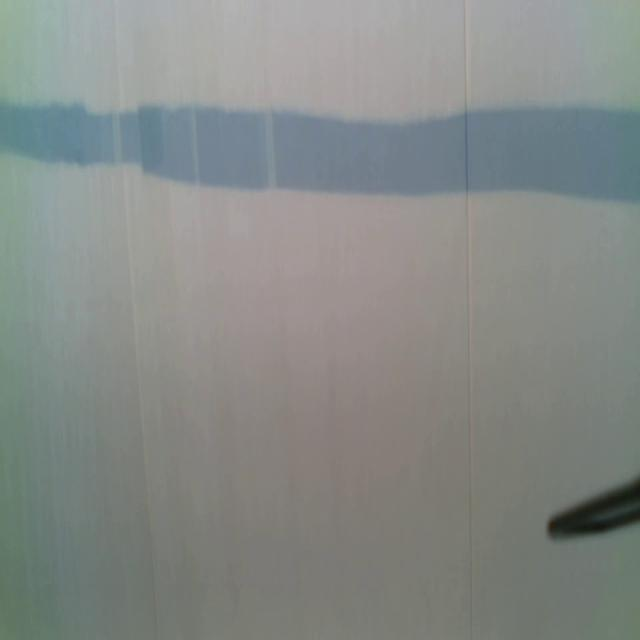color bleeding: (1, 95, 640, 210)
crease: (113, 0, 159, 637), (461, 0, 476, 639)
